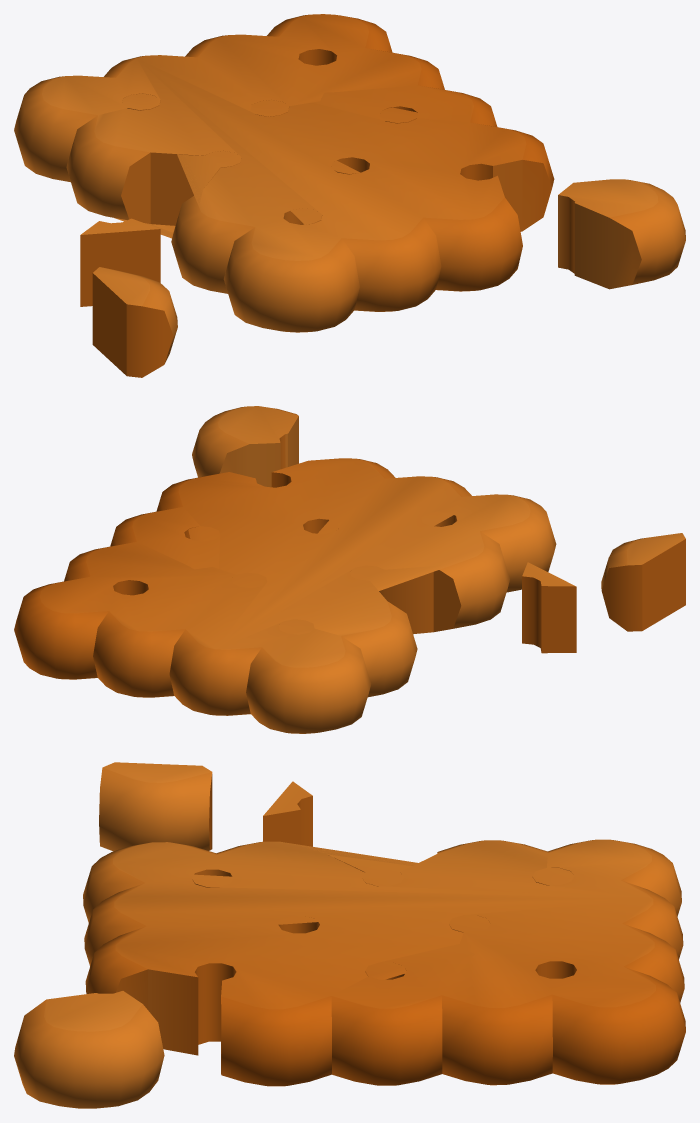
The model's file is Biscuit_Broken_01.fbx.
3 renders of one model, top to bottom at view 1: azimuth 30°, elevation 25°; view 2: azimuth 150°, elevation 25°; view 3: azimuth 270°, elevation 25°, orthographic. The views are drawn at different scales.
Visible parts, largest first — view 1: Biscuit_Broken_01; view 2: Biscuit_Broken_01; view 3: Biscuit_Broken_01.
Boxes of the visible parts, left/top/right/bottom form: Biscuit_Broken_01: left=14, top=14, right=685, bottom=377; Biscuit_Broken_01: left=14, top=406, right=685, bottom=733; Biscuit_Broken_01: left=14, top=762, right=685, bottom=1108.
Size of the model in its own units: 391 by 50.68 by 394.
